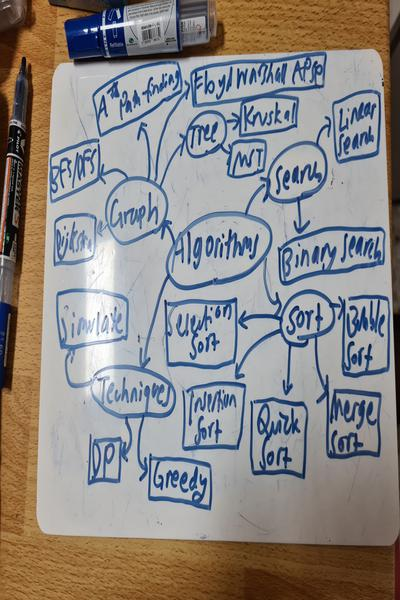arrow: (157, 82, 189, 188), (139, 273, 169, 374), (235, 330, 282, 381), (161, 136, 191, 190), (261, 261, 287, 314), (64, 347, 93, 390), (311, 339, 329, 404), (235, 306, 285, 328), (245, 178, 273, 217), (137, 115, 153, 181), (136, 415, 150, 481), (294, 201, 310, 238), (283, 343, 294, 394), (121, 415, 133, 459), (317, 117, 333, 150), (100, 165, 128, 182), (329, 296, 345, 317), (226, 112, 240, 128), (221, 145, 231, 161), (97, 223, 108, 236)
idea: (92, 61, 183, 135), (191, 53, 327, 102), (276, 229, 386, 285), (164, 299, 238, 370), (249, 398, 307, 477), (56, 288, 130, 348), (183, 382, 244, 451), (327, 387, 382, 458), (345, 293, 390, 377), (331, 89, 380, 163), (48, 140, 102, 204), (148, 457, 213, 509), (53, 212, 97, 266), (237, 96, 299, 134), (88, 436, 121, 487), (229, 139, 265, 179)
topic: (167, 212, 273, 288), (90, 366, 175, 420), (107, 176, 164, 244), (270, 142, 329, 204), (281, 290, 336, 346), (187, 112, 226, 156)
